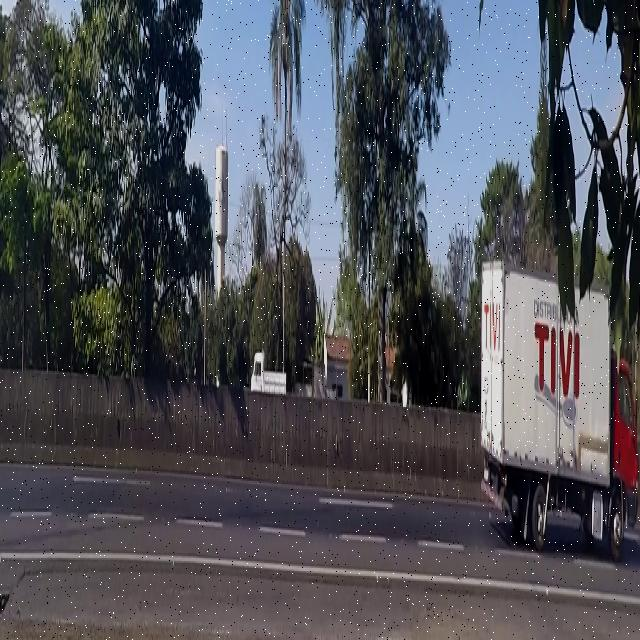-axle: (528, 474, 549, 560), (609, 502, 624, 579)
